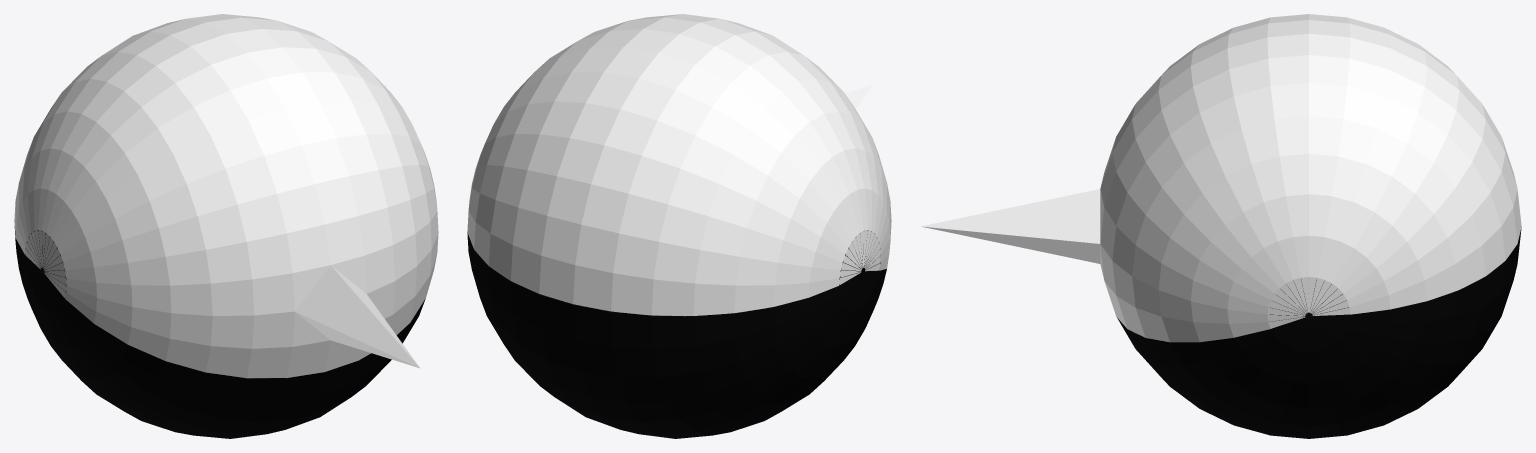
The model's file is player.obj.
3 views of the same model, side by side, from view 1: azimuth 30°, elevation 25°; view 2: azimuth 150°, elevation 25°; view 3: azimuth 270°, elevation 25° (orthographic).
Parts seen in each view (by area): view 1: 球; view 2: 球; view 3: 球.
Boxes of the visible parts, left/top/right/bottom form: 球: left=14, top=14, right=438, bottom=438; 球: left=467, top=14, right=891, bottom=438; 球: left=920, top=14, right=1521, bottom=438.
Bounding box in the file's own units: 2 × 2 × 2.83.
